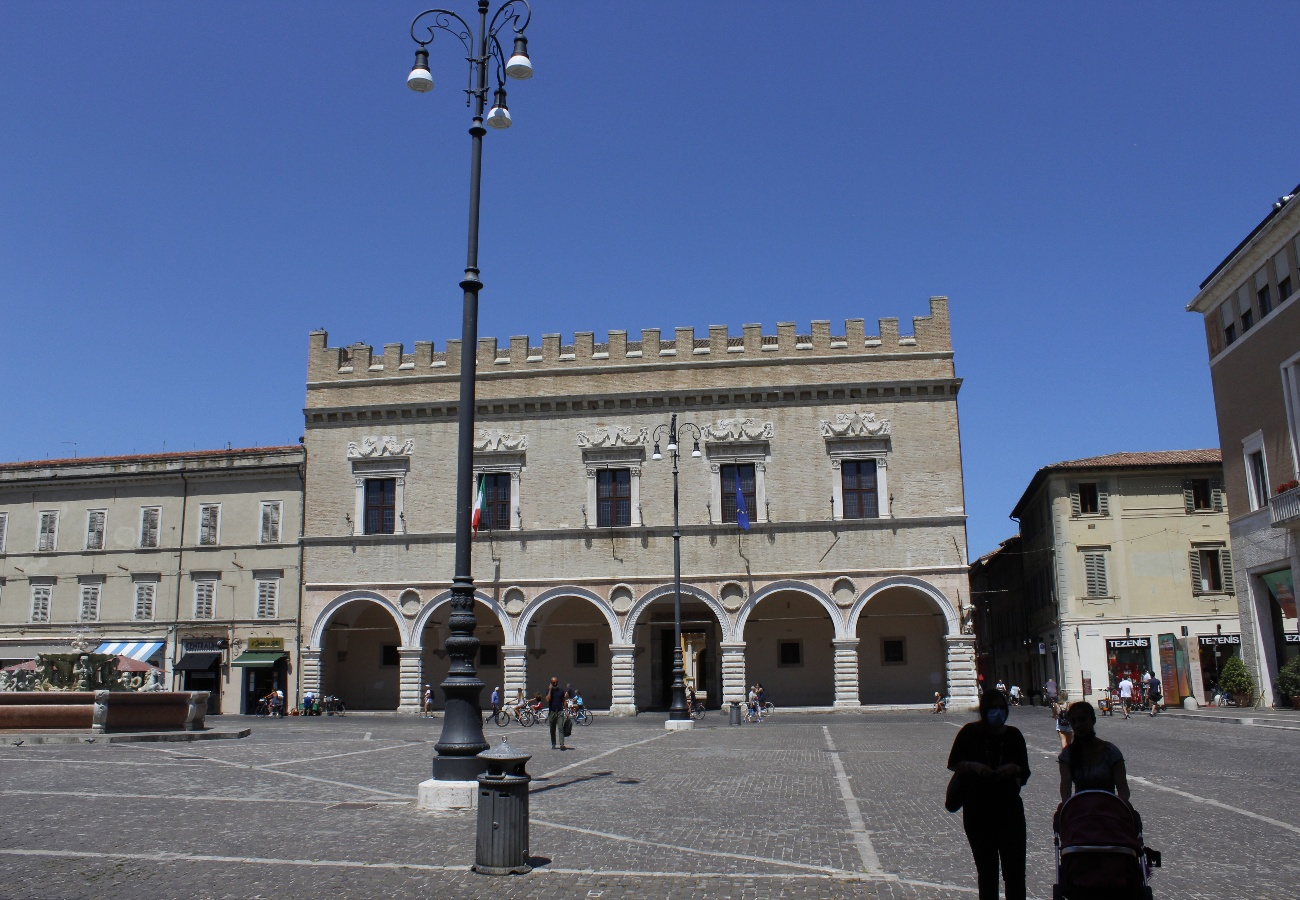Palazzo Ducale: (303, 330, 969, 715)
